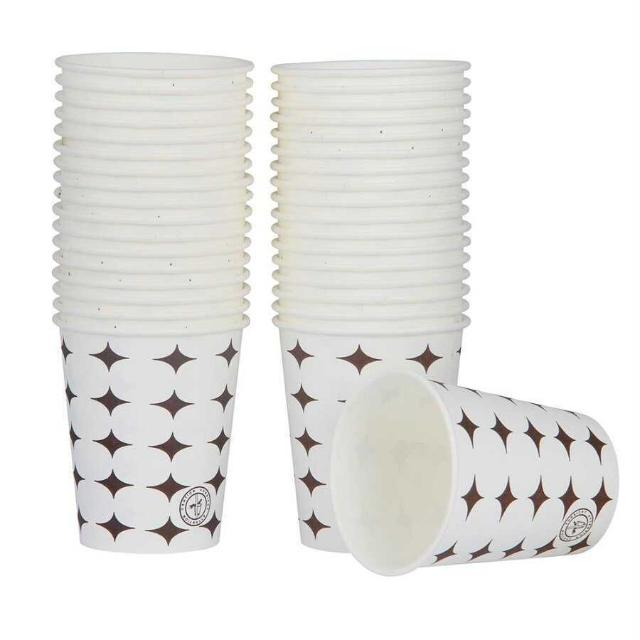trash: (305, 374, 627, 620)
